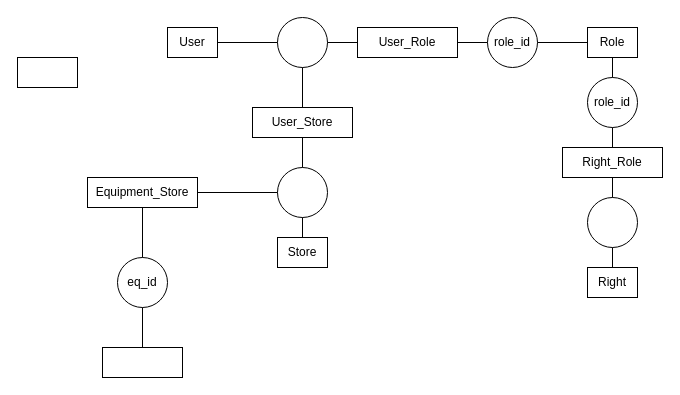
Image size: 680x395. Some labels were removed from this diagram. Each missing label, with the centre of its shape:
Equipment: point (142, 362)
right_id: point (612, 222)
Status: point (47, 72)
store_id: point (302, 192)
user_id: point (302, 42)
